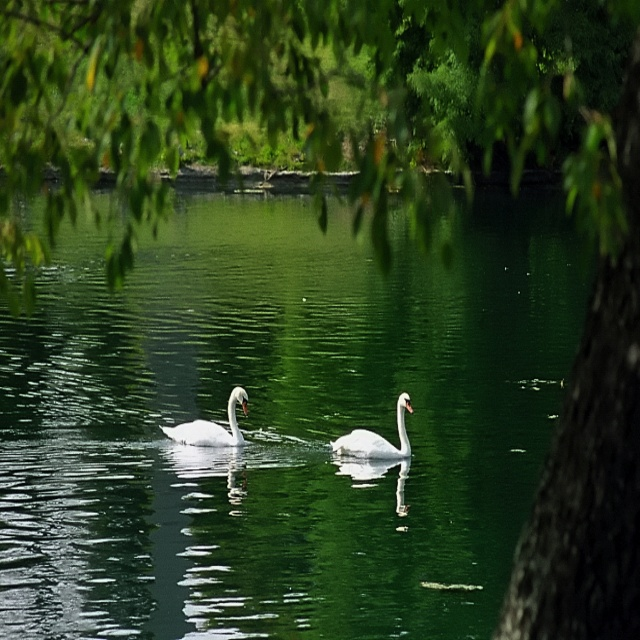Duck: (319, 394, 424, 490), (158, 391, 246, 441)
